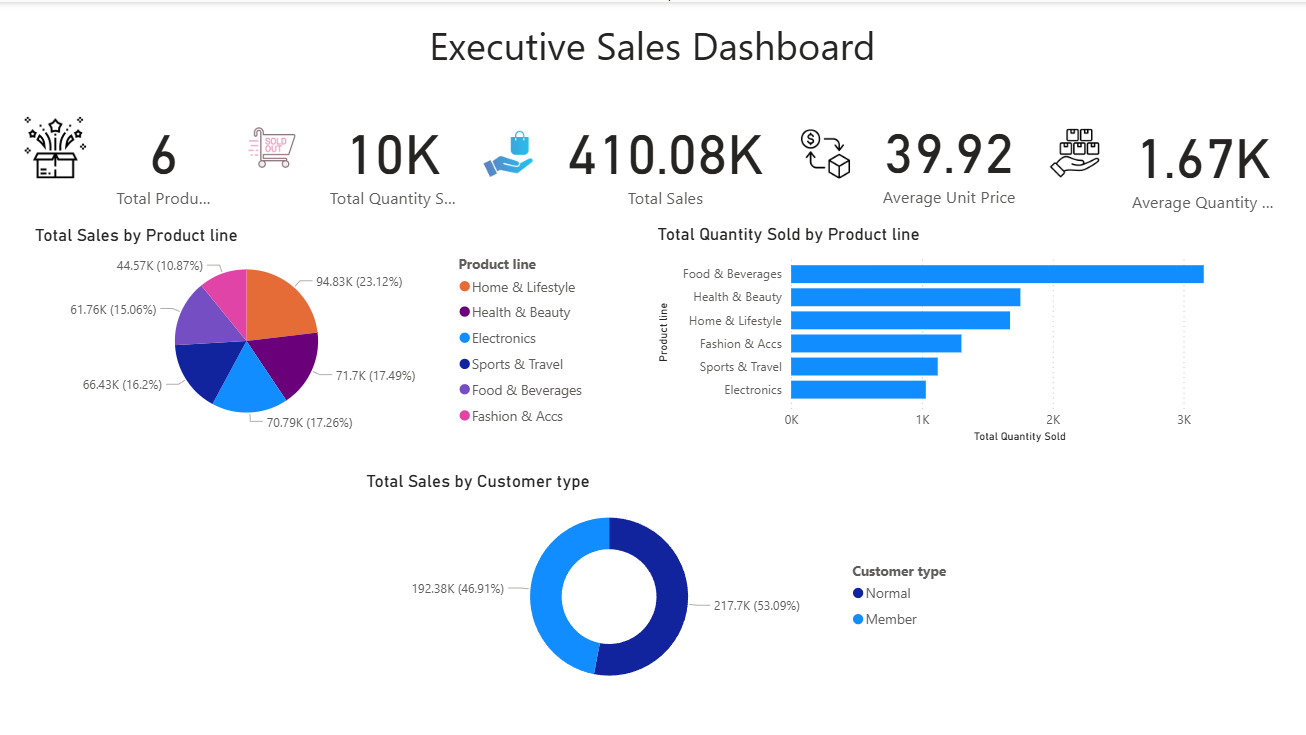

This screenshot's page, from the dashboard's own definition file:
{"tool":"powerbi","page":{"name":"Executive Sales Dashboard","canvas":[1280,720],"ordinal":0},"visuals":[{"type":"textbox","box":[9.6,12.3,1257,65.9],"z":0},{"type":"card","fields":{"Values":["Supermarket Sales 2.Total Products"]},"box":[106.4,102.7,107.6,100.3],"z":1},{"type":"card","fields":{"Values":["Supermarket Sales 2.Total Quantity Sold"]},"box":[316.7,97.8,135.7,110.1],"z":2},{"type":"card","fields":{"Values":["Supermarket Sales 2.Total Sales"]},"box":[547.8,102.7,206.7,100.3],"z":3},{"type":"card","fields":{"Values":["Supermarket Sales 2.Average Unit Price"]},"box":[856,97.8,145.5,108.8],"z":4},{"type":"card","fields":{"Values":["Supermarket Sales 2.Average Quantity per Product Line"]},"box":[1099.3,102.7,155.3,108.8],"z":5},{"type":"pieChart","fields":{"Category":["Supermarket Sales 2.Product line"],"Y":["Supermarket Sales 2.Total Sales"]},"box":[29.3,217.7,553.9,209.1],"z":6},{"type":"clusteredBarChart","fields":{"Category":["Supermarket Sales 2.Product line"],"Y":["Supermarket Sales 2.Total Quantity Sold"]},"box":[638.3,216.4,601.6,220.1],"z":7},{"type":"donutChart","fields":{"Category":["Supermarket Sales 2.Customer type"],"Y":["Supermarket Sales 2.Total Sales"]},"box":[353.4,458.6,594.3,227.4],"z":11},{"type":"image","box":[9.8,107.6,88,69.7],"z":12},{"type":"image","box":[229.9,107.6,77,69.7],"z":13},{"type":"image","box":[769.2,119.8,77,57.5],"z":14},{"type":"image","box":[463.5,119.8,67.3,57.5],"z":15},{"type":"image","box":[1012.5,118.6,77,58.7],"z":16}]}

Visuals, with their boxes in screenshot pixels (x1, y1, x2, y2), scaled from the page's 1280x720 canvas onto the 1306x735 screenshot:
textbox: 10,13,1292,80
card - Supermarket Sales 2.Total Products: 109,105,218,207
card - Supermarket Sales 2.Total Quantity Sold: 323,100,462,212
card - Supermarket Sales 2.Total Sales: 559,105,770,207
card - Supermarket Sales 2.Average Unit Price: 873,100,1022,211
card - Supermarket Sales 2.Average Quantity per Product Line: 1122,105,1280,216
pieChart - Supermarket Sales 2.Product line x Supermarket Sales 2.Total Sales: 30,222,595,436
clusteredBarChart - Supermarket Sales 2.Product line x Supermarket Sales 2.Total Quantity Sold: 651,221,1265,446
donutChart - Supermarket Sales 2.Customer type x Supermarket Sales 2.Total Sales: 361,468,967,700
image: 10,110,100,181
image: 235,110,313,181
image: 785,122,863,181
image: 473,122,542,181
image: 1033,121,1112,181
